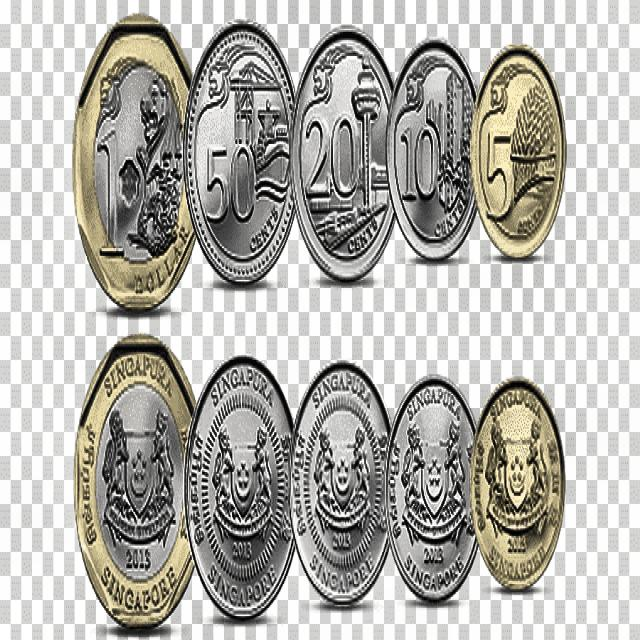coin: (73, 14, 195, 309), (75, 336, 194, 627)
